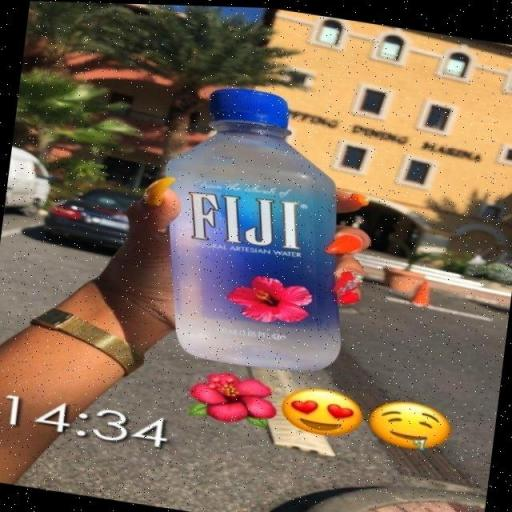plastic: (163, 86, 342, 372)
